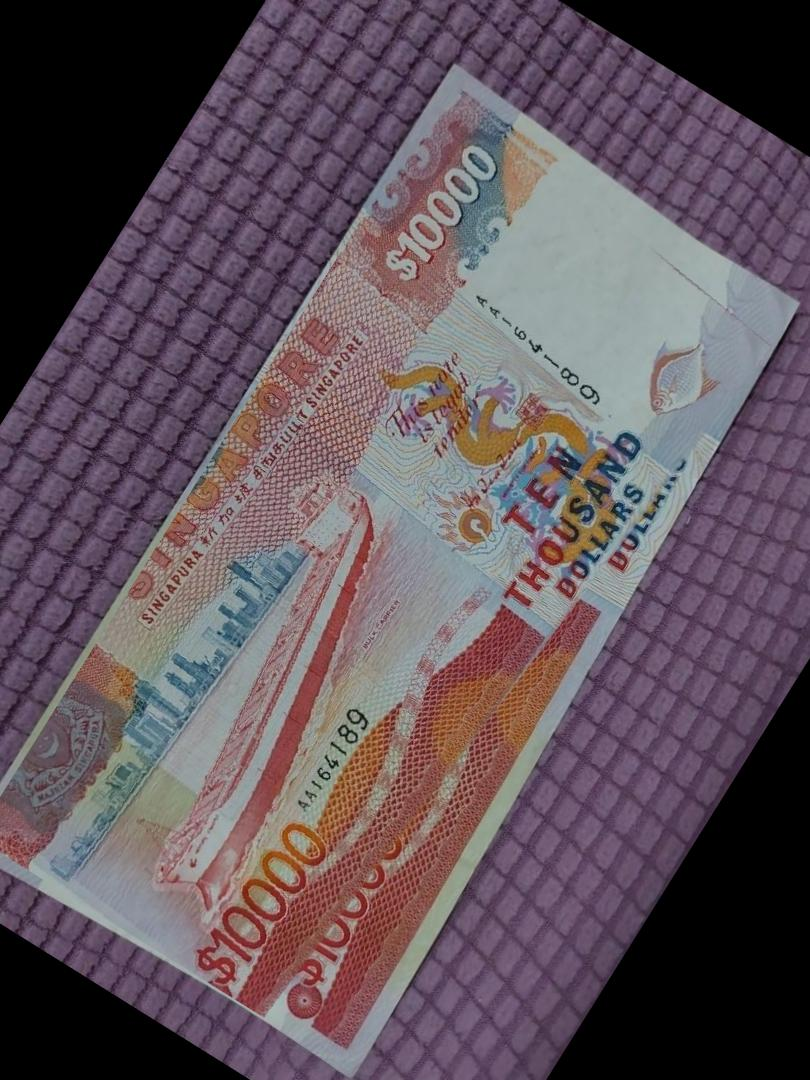10000SingaporeDollar: (0, 81, 799, 1057)
